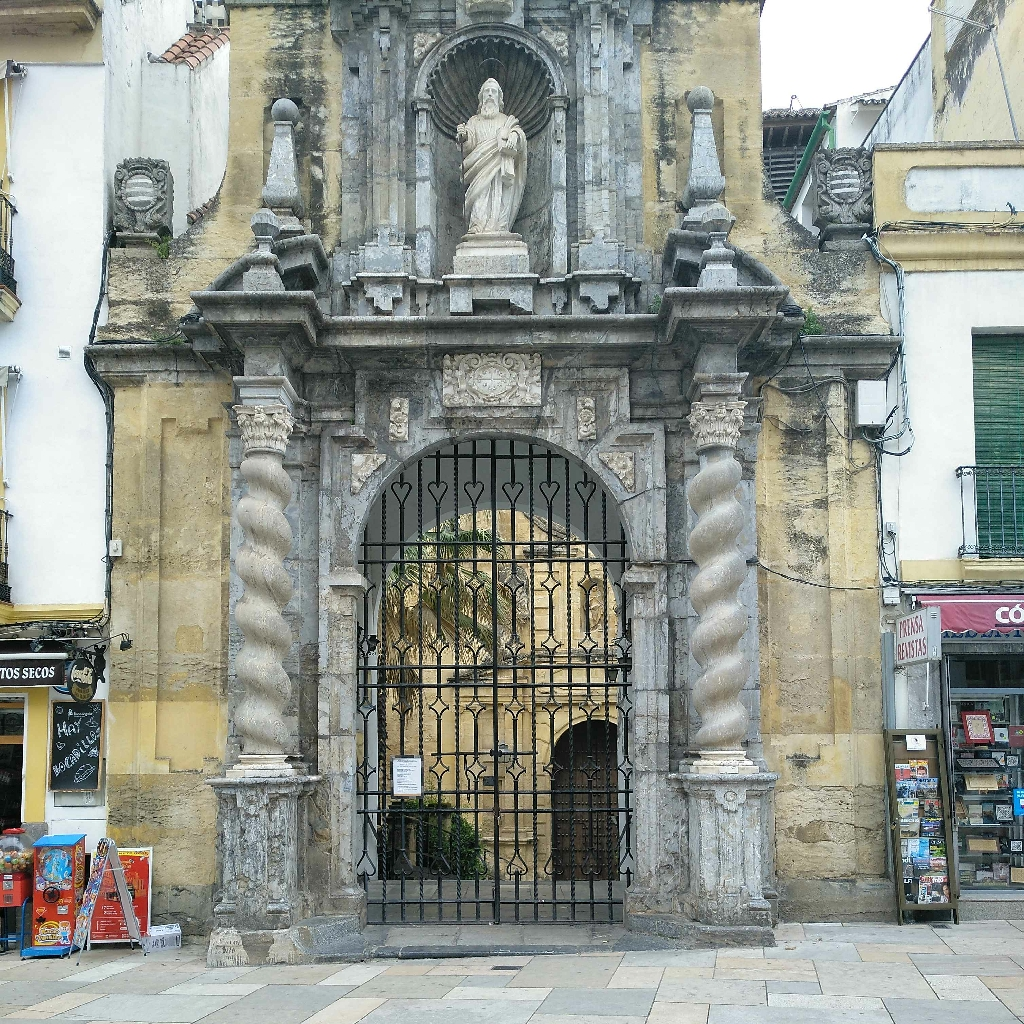arco-medio-punto: (324, 418, 652, 607)
columna-salomonica: (683, 434, 759, 768), (222, 444, 298, 763)
fronton-partido: (196, 224, 792, 331)
